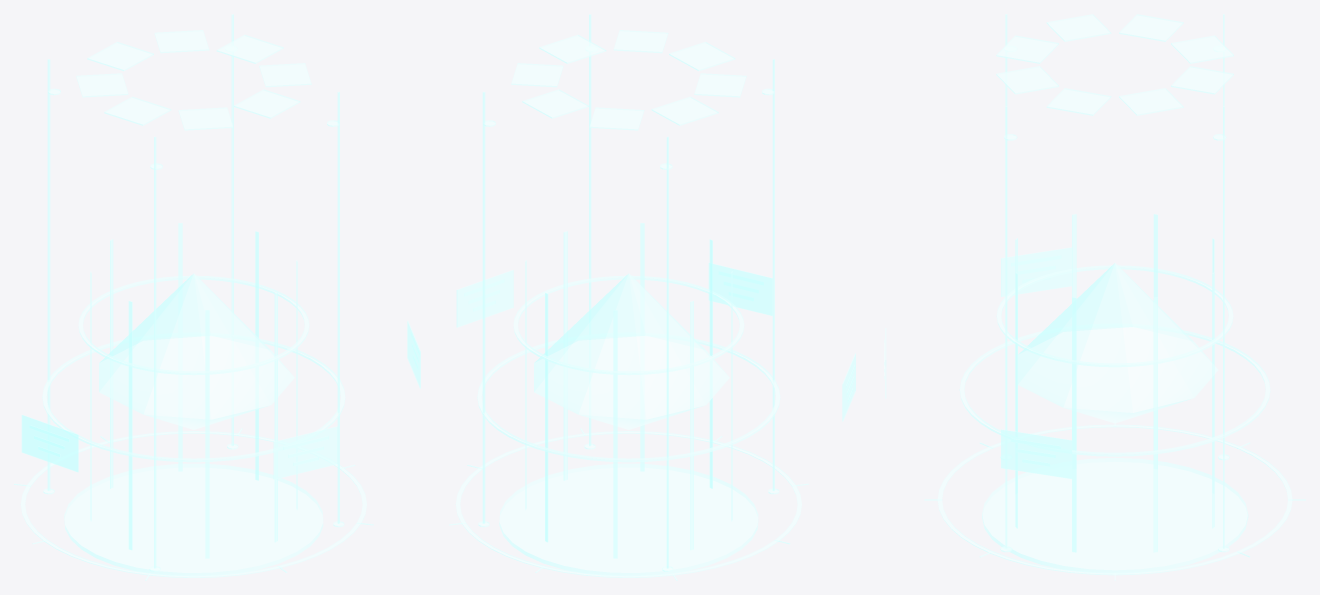
The model's file is SM_CommandCenter_Holo.fbx.
3 views of the same model, side by side, from view 1: azimuth 30°, elevation 25°; view 2: azimuth 150°, elevation 25°; view 3: azimuth 270°, elevation 25° (orthographic). The views are drawn at different scales.
Parts seen in each view (by area): view 1: SM_CommandCenter_Holo; view 2: SM_CommandCenter_Holo; view 3: SM_CommandCenter_Holo.
Boxes of the visible parts, <box> form: SM_CommandCenter_Holo: <box>14,14,420,580</box>; SM_CommandCenter_Holo: <box>449,14,855,580</box>; SM_CommandCenter_Holo: <box>884,14,1305,580</box>.
Size of the model in its own units: 3.09 by 3.42 by 2.85.
